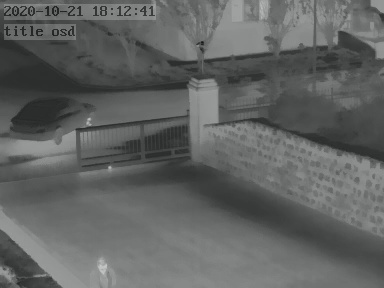person: (93, 254, 113, 285)
vehicle: (5, 93, 96, 144)
